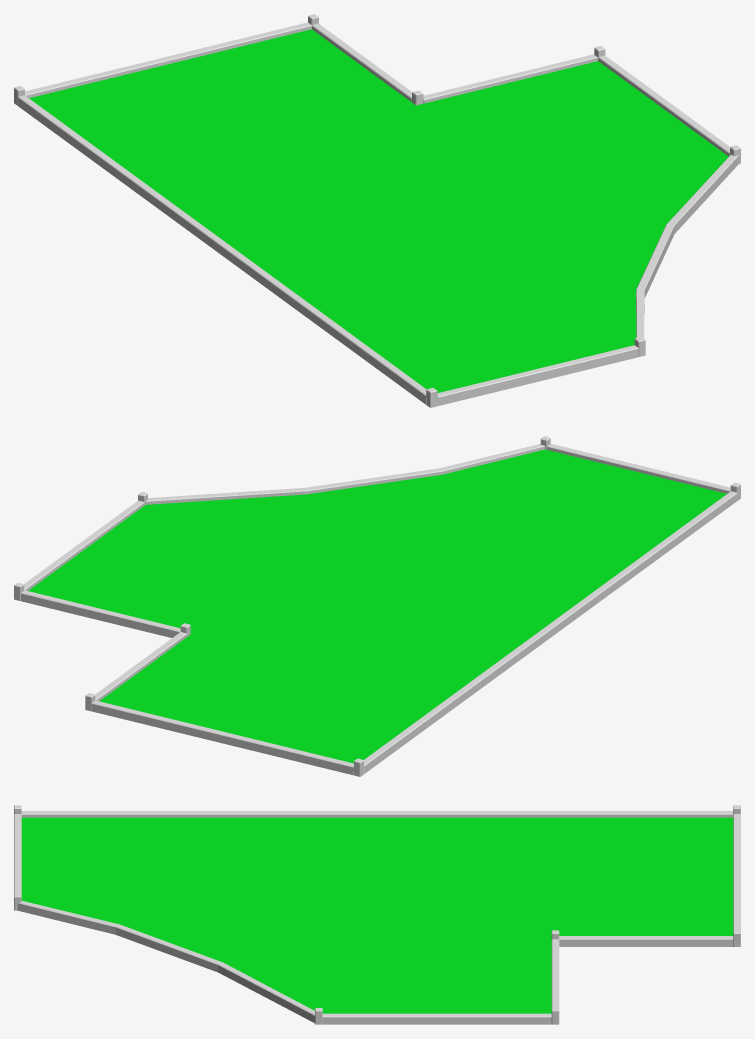
Rendered from Grass.fbx.
3 views of the same model, one above another, from view 1: azimuth 30°, elevation 25°; view 2: azimuth 150°, elevation 25°; view 3: azimuth 270°, elevation 25° (orthographic). The views are drawn at different scales.
Parts seen in each view (by area): view 1: polySurface58; view 2: polySurface58; view 3: polySurface58.
Part boxes in pixels (bbox=[...]): polySurface58: bbox=[14, 14, 740, 407]; polySurface58: bbox=[14, 436, 740, 776]; polySurface58: bbox=[14, 805, 740, 1024].
Bounding box in the file's own units: 16.96 × 0.5293 × 25.32.
